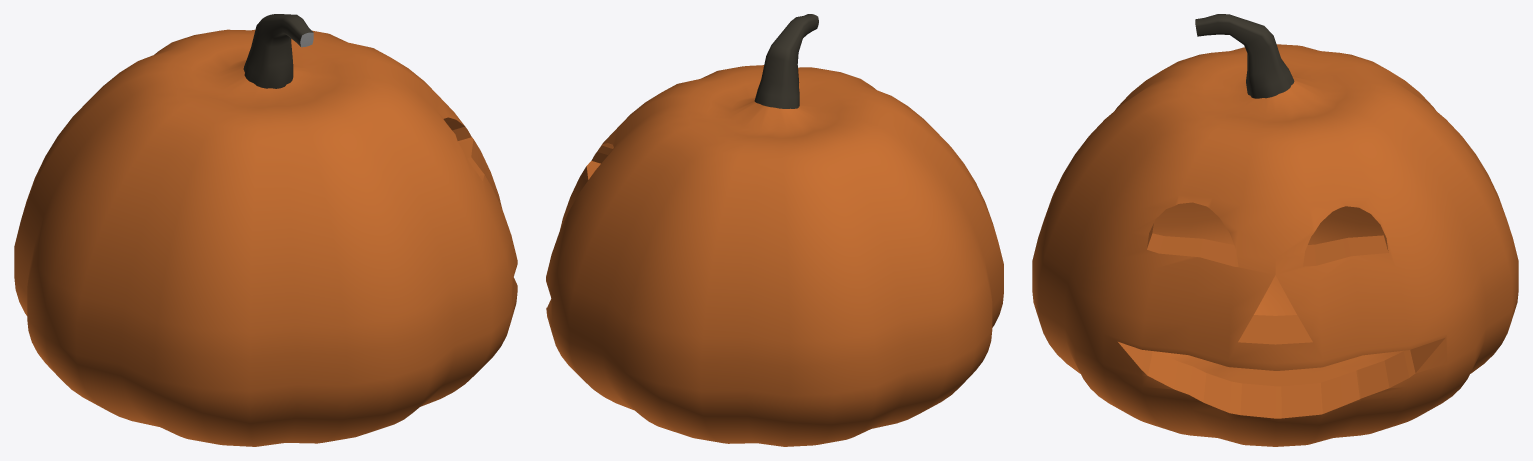
File: jackolantern.fbx
The picture shows the model from 3 angles, left to right: view 1: azimuth 30°, elevation 25°; view 2: azimuth 150°, elevation 25°; view 3: azimuth 270°, elevation 25°; orthographic projection. The views are drawn at different scales.
Visible parts, largest first — view 1: JackOLantern3; view 2: JackOLantern3; view 3: JackOLantern3.
Part boxes in pixels (x1,y1,x2,y2): JackOLantern3: (14, 14, 517, 446); JackOLantern3: (546, 14, 1003, 446); JackOLantern3: (1032, 14, 1518, 446).
Bounding box in the file's own units: 47.84 × 40.8 × 47.84.
